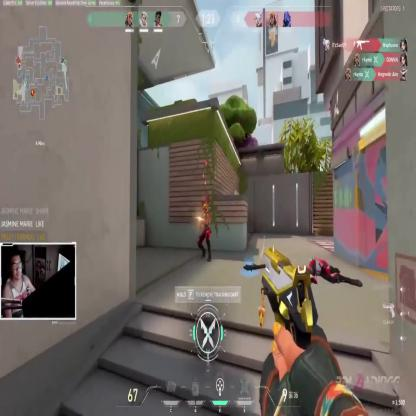enemy: (198, 203, 212, 265)
enemy_head: (202, 204, 207, 214)
